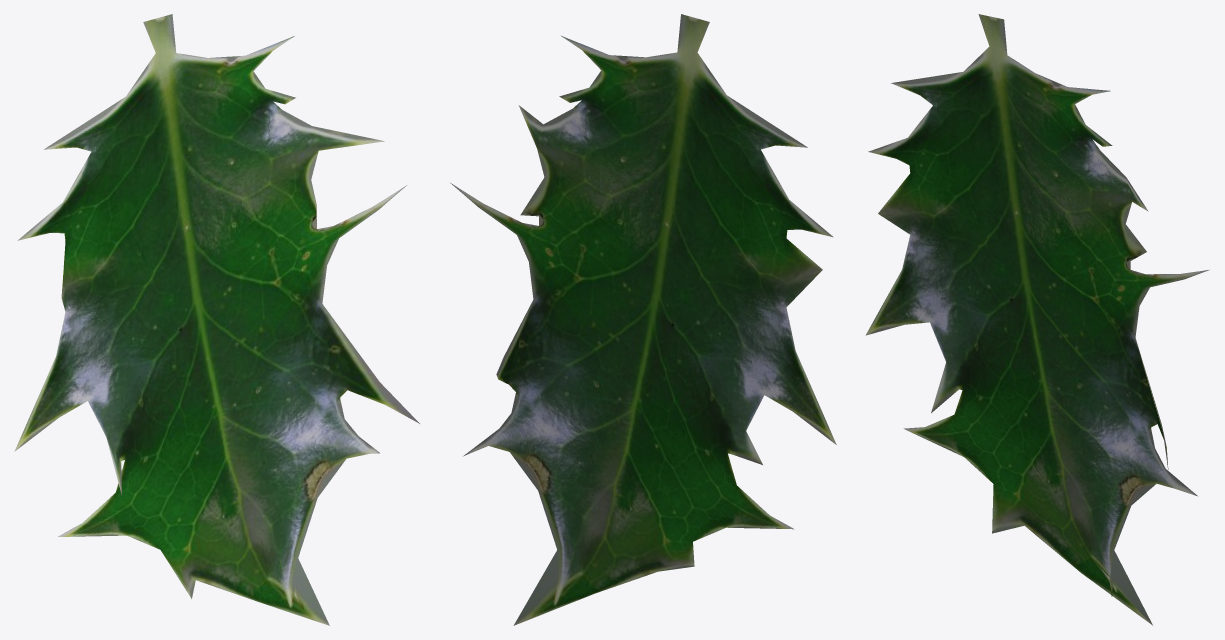
Rendered from leaf.glb.
The picture shows the model from 3 angles, left to right: view 1: azimuth 30°, elevation 25°; view 2: azimuth 150°, elevation 25°; view 3: azimuth 330°, elevation 25°; orthographic projection. The views are drawn at different scales.
Parts seen in each view (by area): view 1: Cube.005; view 2: Cube.005; view 3: Cube.005.
Boxes of the visible parts, x1,y1,x2,y2 form: Cube.005: [14, 14, 419, 625]; Cube.005: [450, 14, 836, 625]; Cube.005: [865, 14, 1209, 625].
Size of the model in its own units: 2.77 by 4.42 by 0.4868.
1 material, 1 textured.
